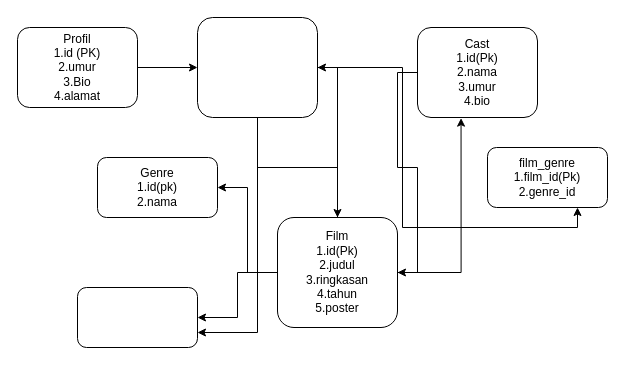
Some shapes in this 625 by 365 pixel diagram are drawn without their labels. The shapes that lost their labels are listed below. From the top down, each one's centre as x and y in pixels, then its label:
At pixel 257 67: "User 1.id (Pk) 2.username 3.email 4.password 5.profil_id".
At pixel 137 317: "Ulasan 1.user_id(Pk) 2.film_id 3.ulasan".
